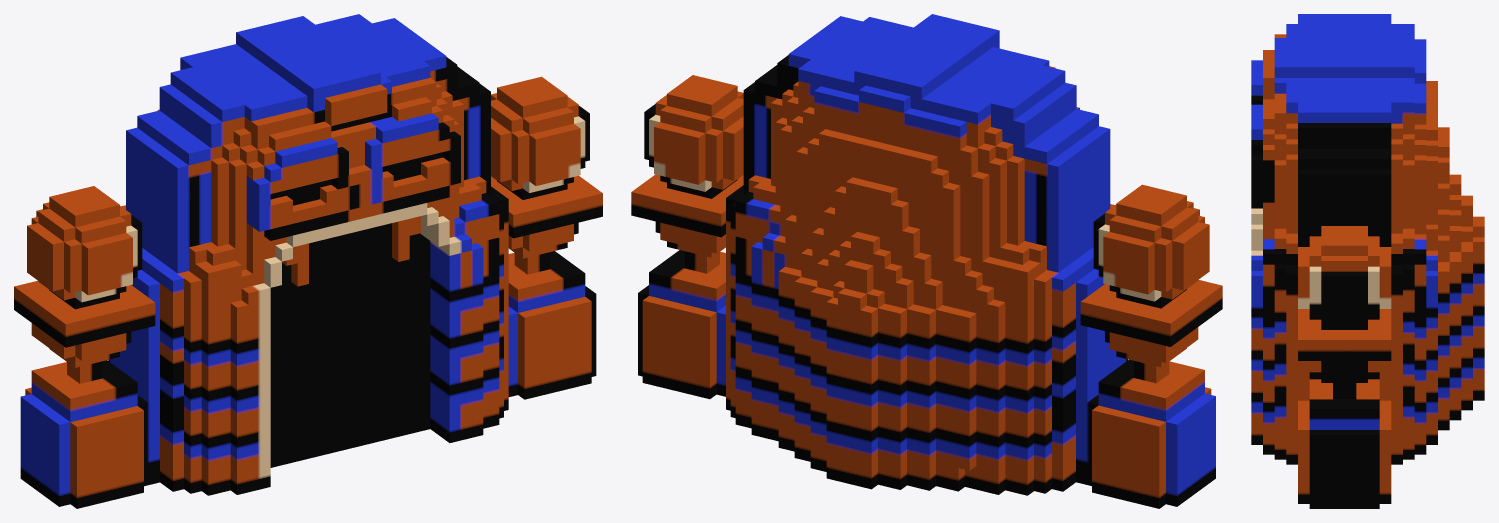
The model's file is TempleEntranceTwoEyeRed.obj.
3 views of the same model, side by side, from view 1: azimuth 30°, elevation 25°; view 2: azimuth 150°, elevation 25°; view 3: azimuth 270°, elevation 25° (orthographic). The views are drawn at different scales.
Visible parts, largest first — view 1: Matrix; view 2: Matrix; view 3: Matrix.
Part boxes in pixels (x1,y1,x2,y2): Matrix: (14, 14, 602, 508); Matrix: (631, 14, 1222, 508); Matrix: (1251, 14, 1484, 508).
Bounding box in the file's own units: 4.8 × 3.2 × 2.
1 material, 1 textured.
